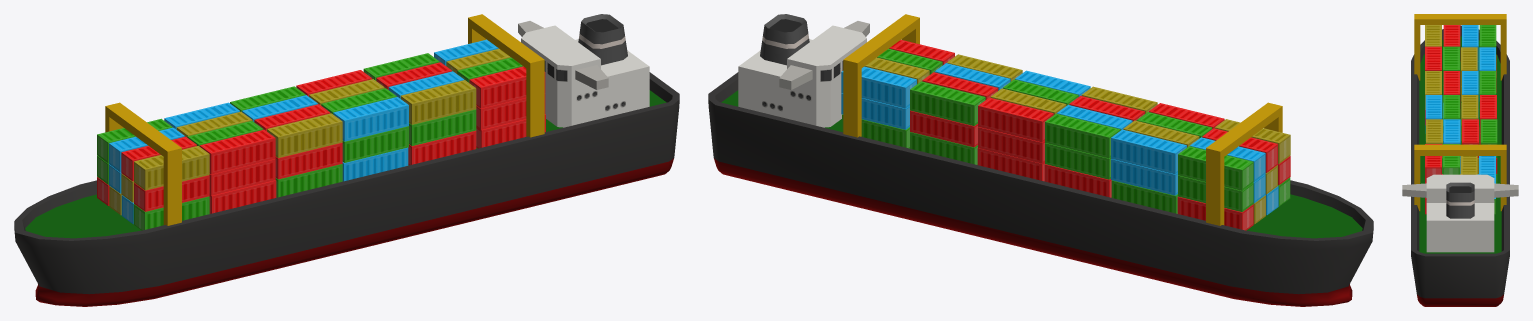
The model's file is FSW_Boat_01_Container.fbx.
3 renders of one model, left to right at view 1: azimuth 30°, elevation 25°; view 2: azimuth 150°, elevation 25°; view 3: azimuth 270°, elevation 25°, orthographic. The views are drawn at different scales.
Visible parts, largest first — view 1: FSW_Boat_01_Container; view 2: FSW_Boat_01_Container; view 3: FSW_Boat_01_Container.
Boxes of the visible parts, bbox=[...] form: FSW_Boat_01_Container: bbox=[14, 14, 679, 306]; FSW_Boat_01_Container: bbox=[708, 14, 1373, 306]; FSW_Boat_01_Container: bbox=[1402, 14, 1518, 306].
Size of the model in its own units: 1251 by 280 by 266.
